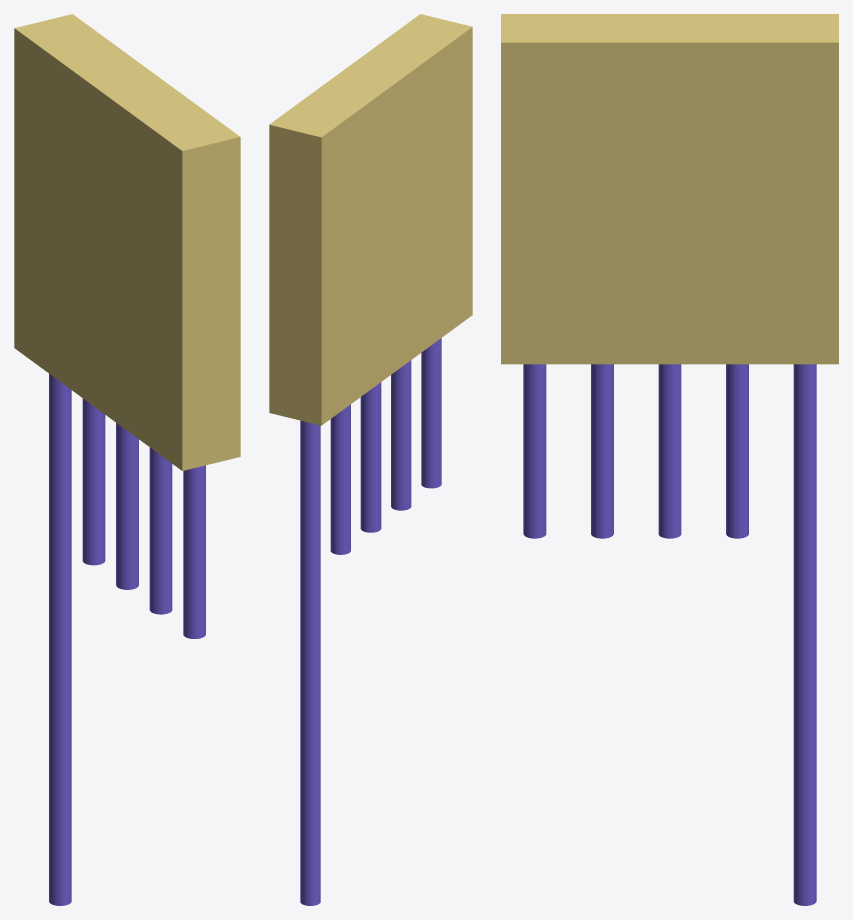
Rendered from Cell_DoorWall.fbx.
3 views of the same model, side by side, from view 1: azimuth 30°, elevation 25°; view 2: azimuth 150°, elevation 25°; view 3: azimuth 270°, elevation 25° (orthographic). The views are drawn at different scales.
Parts seen in each view (by area): view 1: Cell_DoorWall_Base; view 2: Cell_DoorWall_Base; view 3: Cell_DoorWall_Base.
Part boxes in pixels (left/top/right/bottom): Cell_DoorWall_Base: left=14, top=14, right=240, bottom=905; Cell_DoorWall_Base: left=269, top=14, right=472, bottom=905; Cell_DoorWall_Base: left=501, top=14, right=838, bottom=905.
Size of the model in its own units: 200 by 2852 by 1000.
